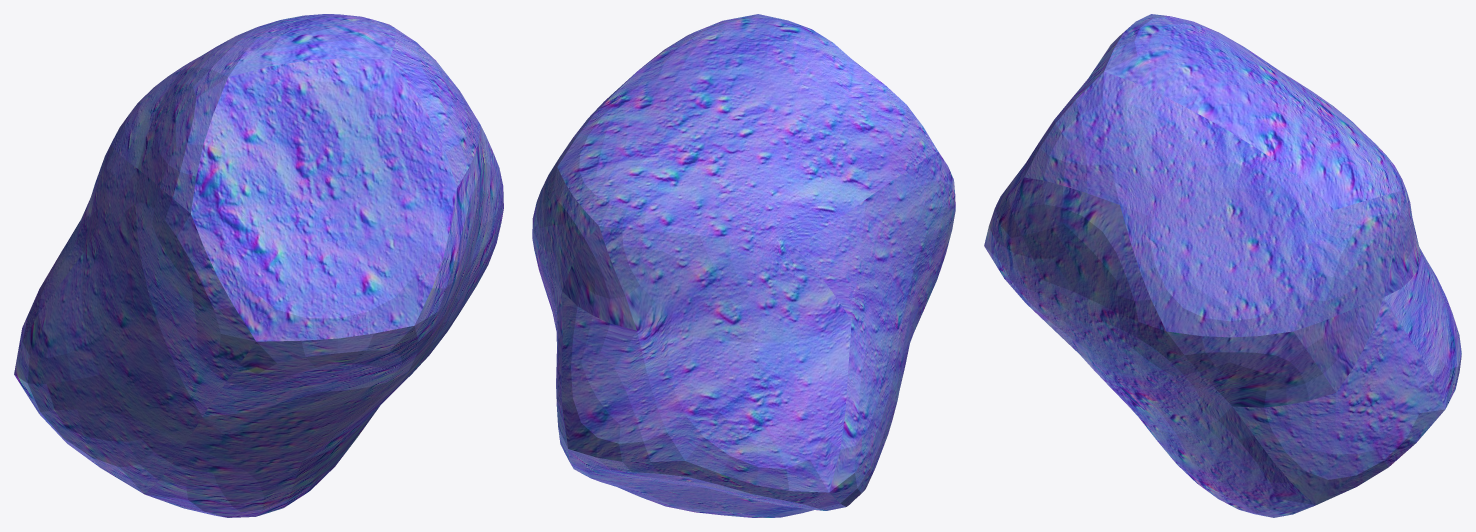
File: smallasteroid3_LOD2.fbx
The picture shows the model from 3 angles, left to right: view 1: azimuth 30°, elevation 25°; view 2: azimuth 150°, elevation 25°; view 3: azimuth 270°, elevation 25°; orthographic projection. The views are drawn at different scales.
Visible parts, largest first — view 1: Icosphere; view 2: Icosphere; view 3: Icosphere.
Part boxes in pixels (bbox=[...]): Icosphere: bbox=[14, 14, 503, 517]; Icosphere: bbox=[532, 14, 955, 517]; Icosphere: bbox=[984, 14, 1461, 517].
Size of the model in its own units: 219 by 271 by 252.
